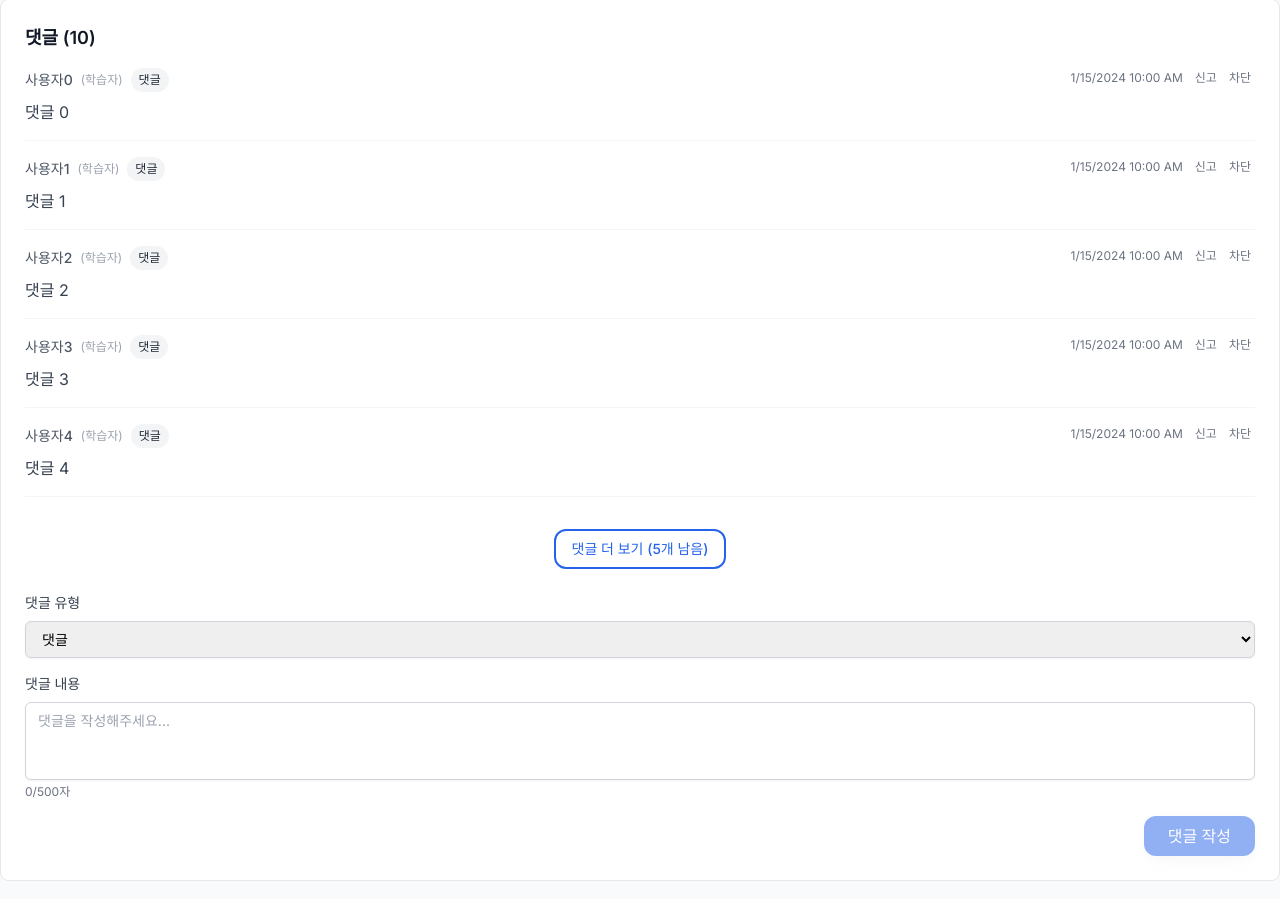
Test case: CommentSection › implements pagination for large number of comments
Check: the text "댓글 0" is shown, box top-left (25, 102), bottom-right (69, 122)
Check: the text "댓글 4" is shown, box top-left (25, 458), bottom-right (69, 478)
Note: Click "더 보기" button
Click the button "댓글 더 보기 (5개 남음)" at (640, 549), box top-left (554, 529), bottom-right (726, 569)
(page scrolled)
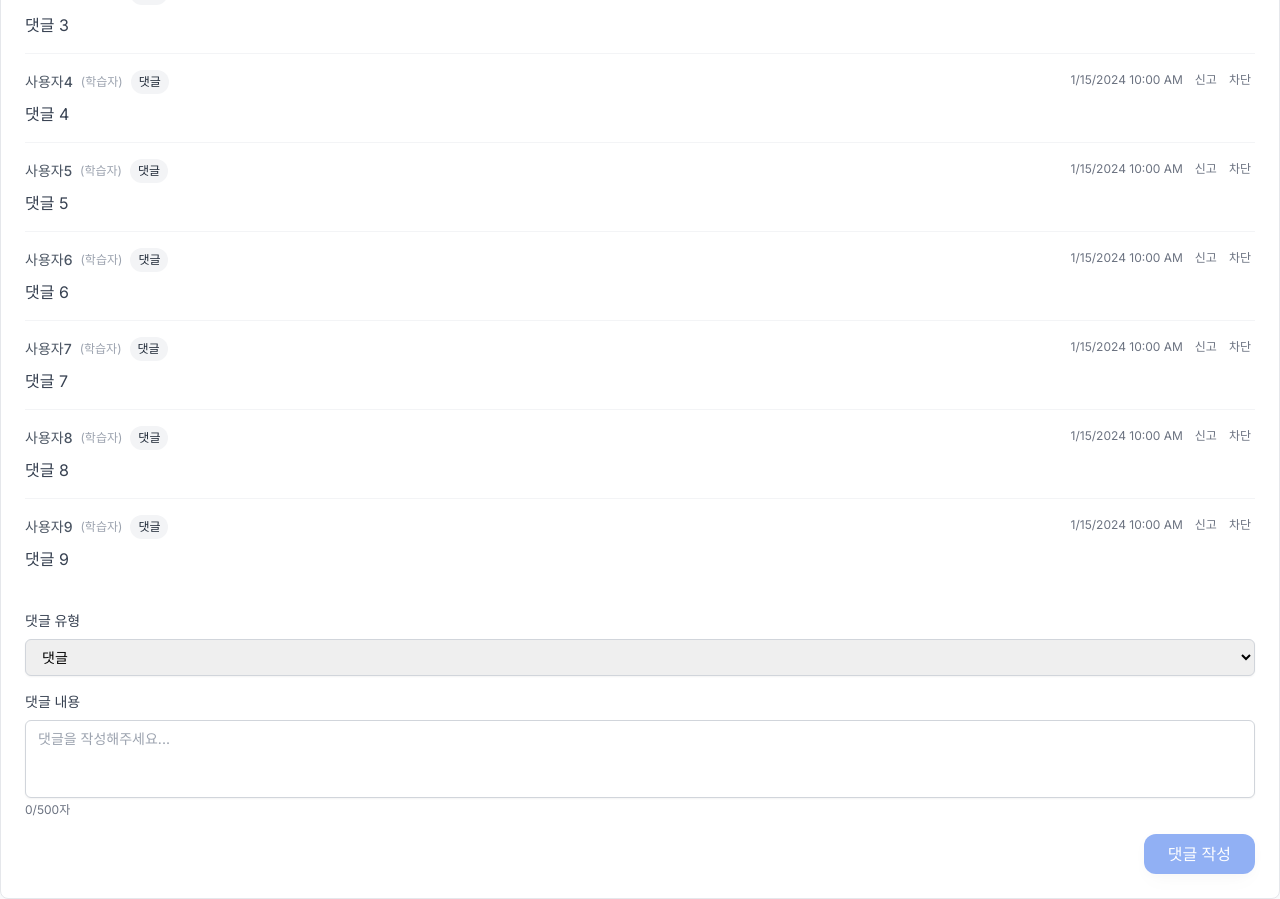
Check: the text "댓글 5" is shown, box top-left (25, 193), bottom-right (68, 213)
Check: the text "댓글 9" is shown, box top-left (25, 549), bottom-right (69, 569)
